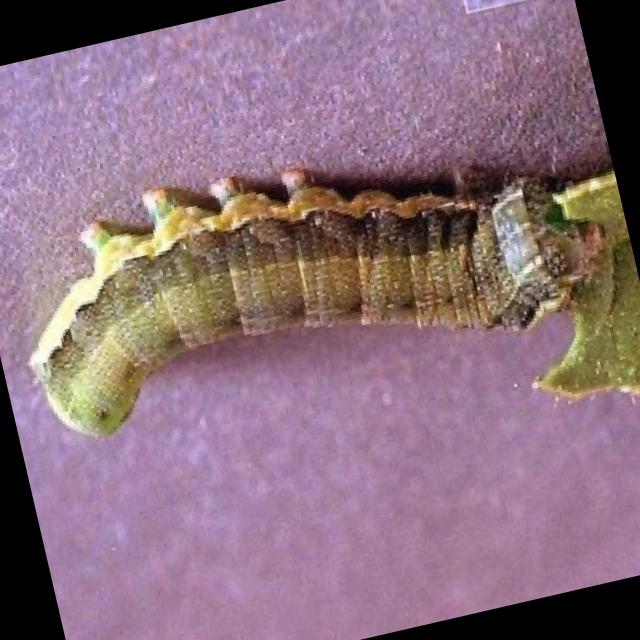armyworm: (1, 86, 622, 463)
